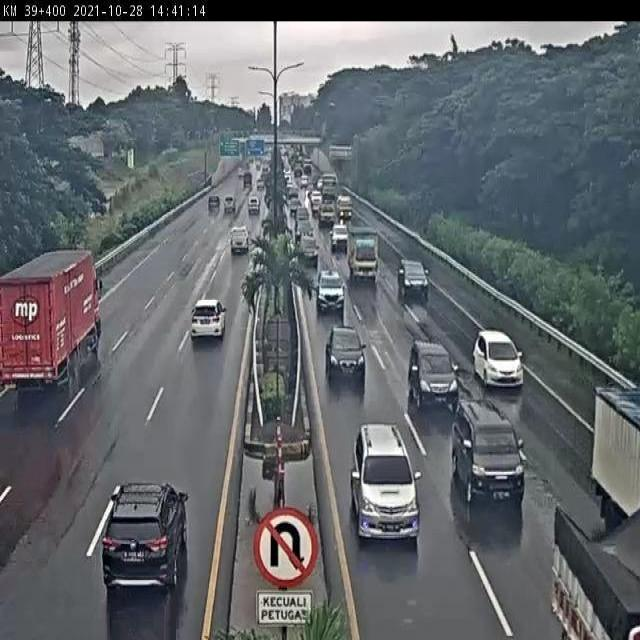car: (102, 480, 188, 596), (352, 423, 421, 540), (450, 400, 524, 504), (409, 341, 459, 407), (473, 331, 524, 386), (326, 327, 366, 381), (190, 298, 226, 338), (397, 258, 429, 298), (317, 268, 345, 313)
mid truck: (0, 248, 102, 401)
truck-m-: (347, 227, 379, 281)
